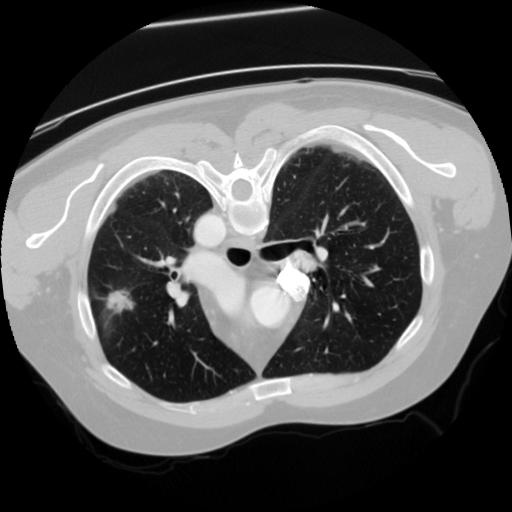nodule: (104, 285, 140, 321)
